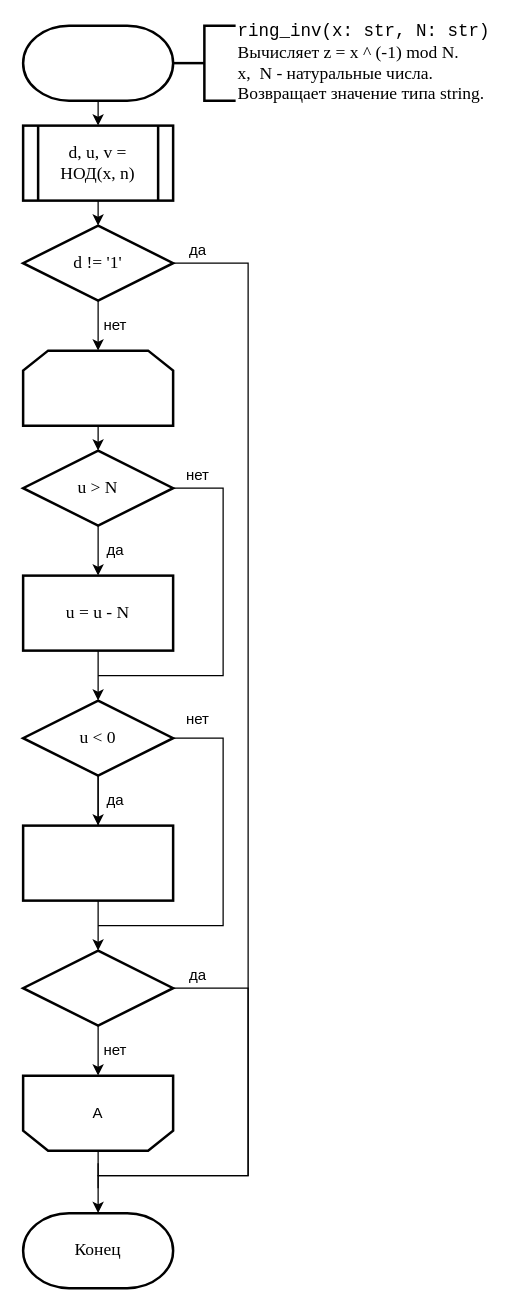
The diagram is 511 pixels wide and 1311 high, and some of its shapes have lost their labels. Each missing label, with the centre of its shape:
0 < u < N: (97,987)
u = u + N: (97,862)
А. Пока True: (97,387)
Начало: (97,62)
